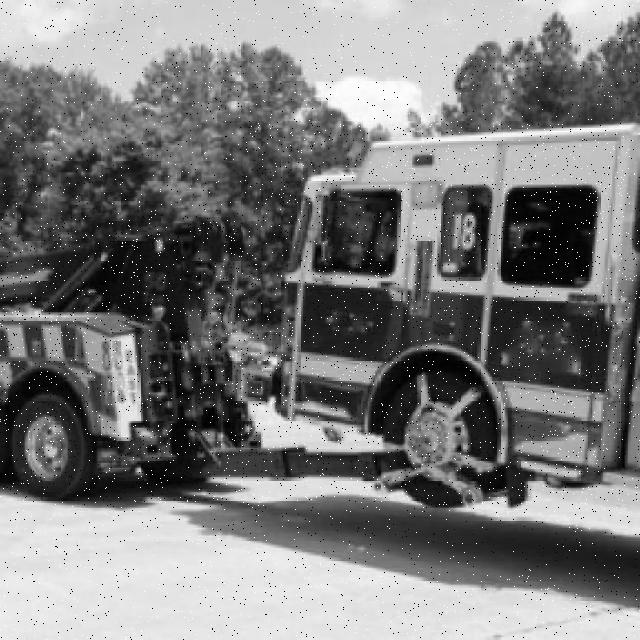Fire Truck: (243, 124, 640, 510)
Tow Truck: (0, 216, 411, 501)
